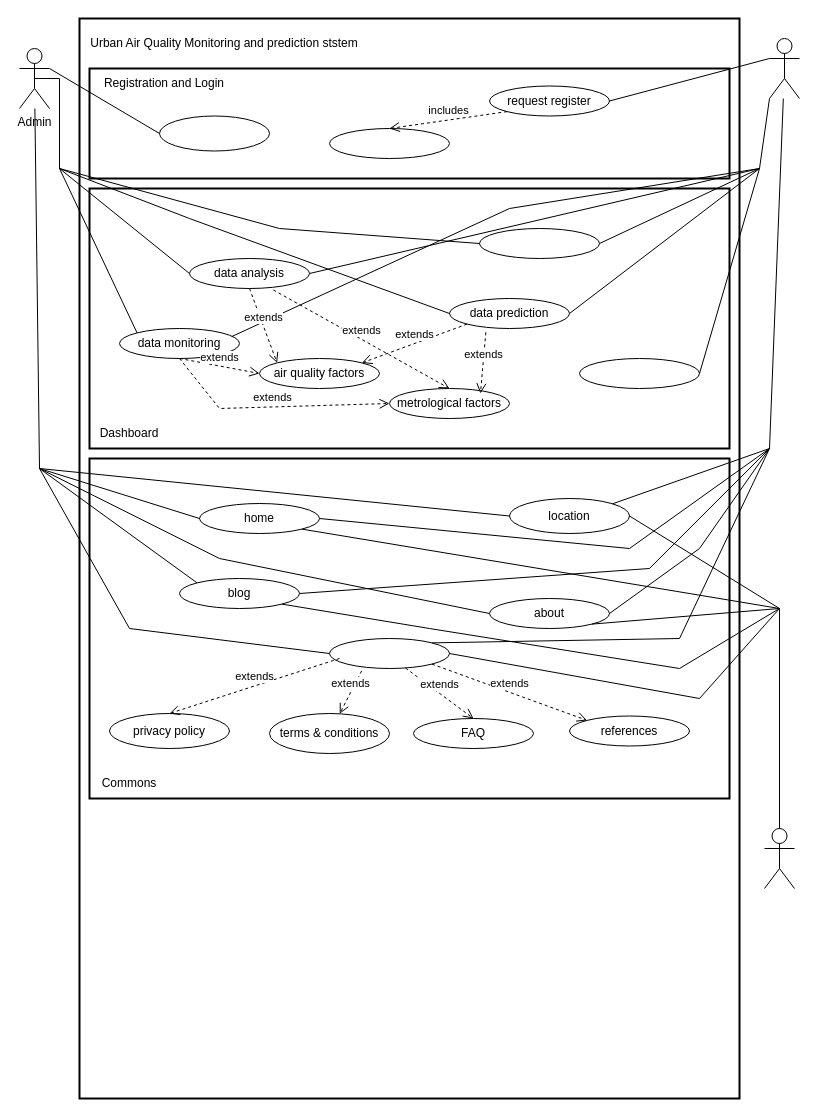
Some shapes in this 830 by 1116 pixel diagram are drawn without their labels. Each missing label, with the centre of its shape:
admin login: the point at 214,133
graphs: the point at 539,243
login: the point at 389,143
pages: the point at 389,653
Registered user: the point at 784,68
User: the point at 779,858
user settings: the point at 639,373
